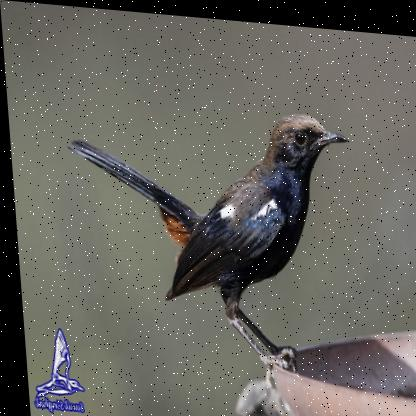Burung: (63, 91, 361, 372)
